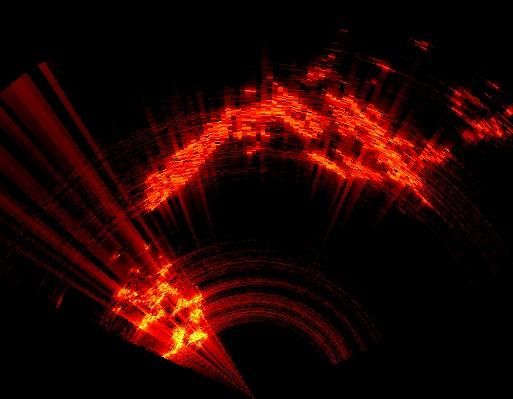shipwreck: (144, 82, 448, 210), (116, 267, 207, 357)
